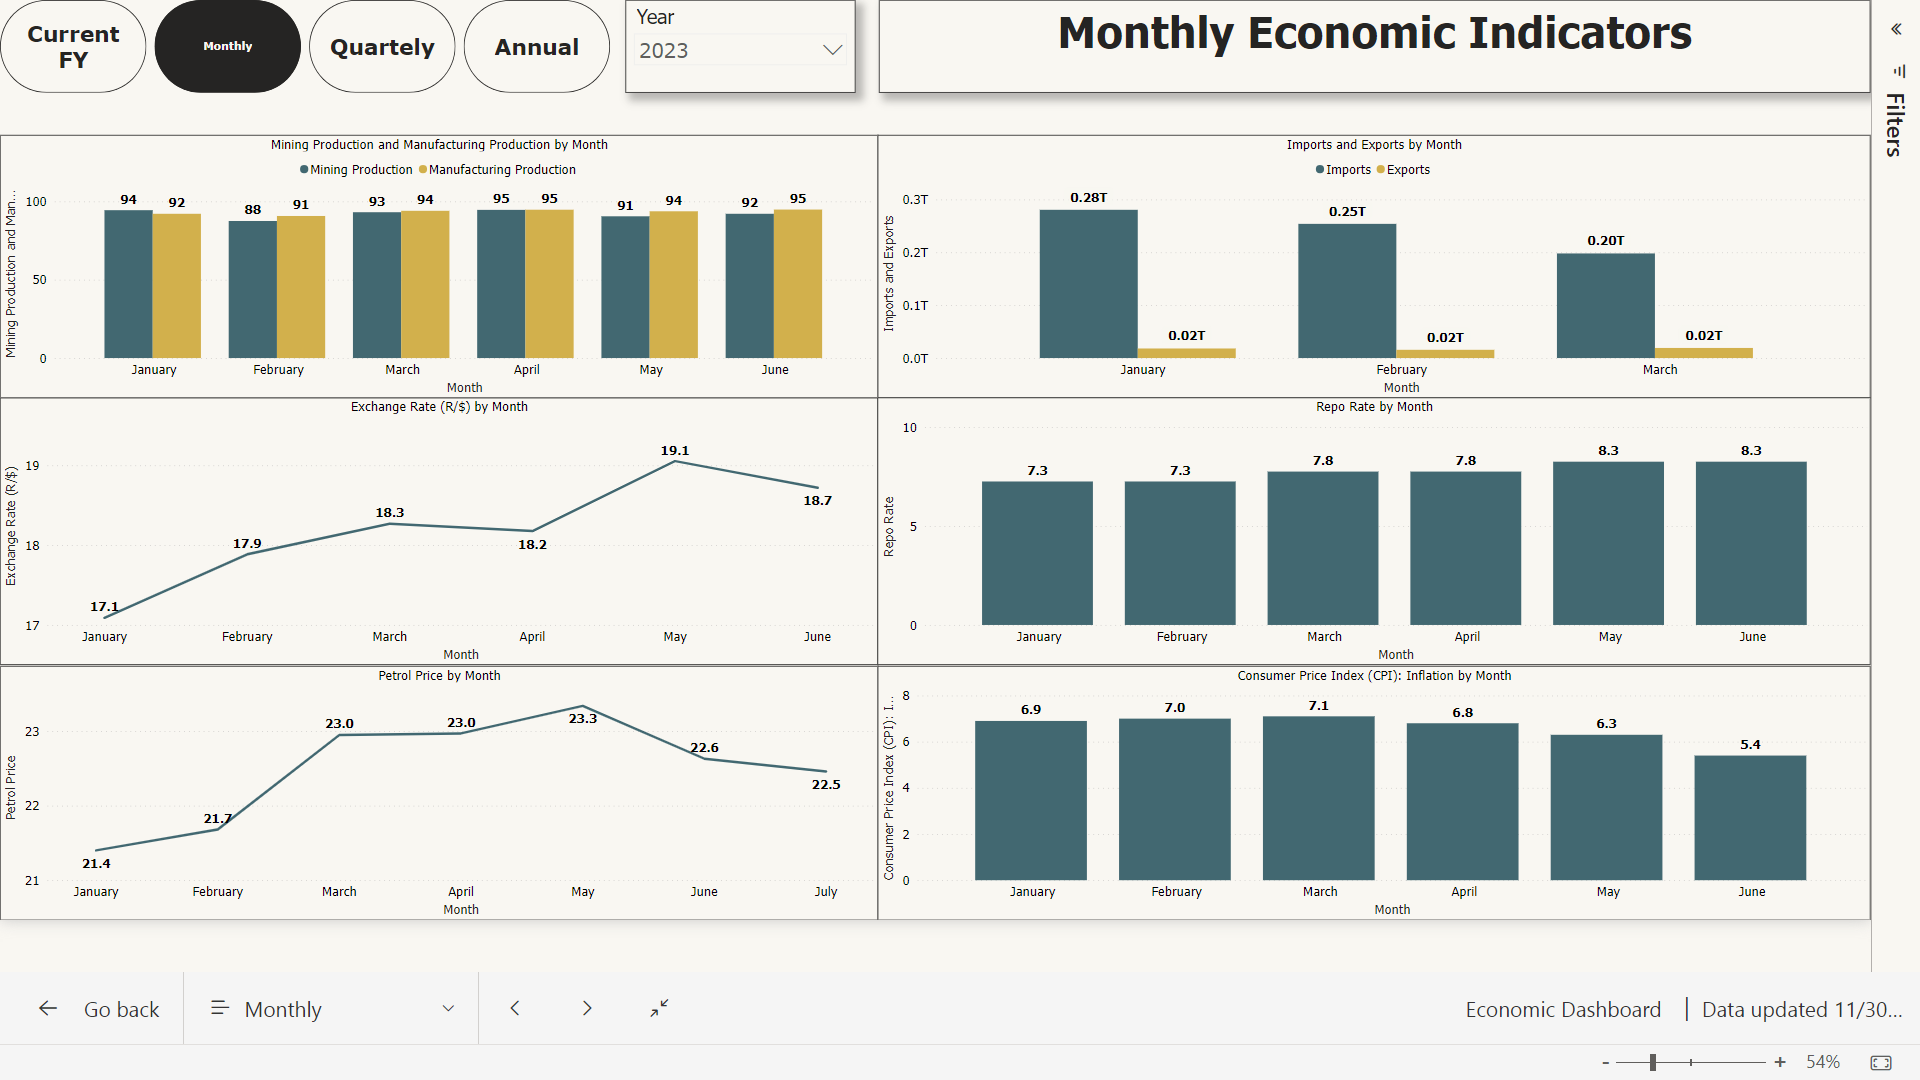

The dashboard page shown, as its layout file describes it:
{"tool":"powerbi","page":{"name":"Monthly","canvas":[2300,1131],"ordinal":1},"visuals":[{"type":"pageNavigator","box":[0,0,750.2,114.4],"z":0},{"type":"columnChart","fields":{"Y":["Sum(Monthly.Consumer Price Index (CPI): Inflation)"],"Category":["Monthly.Months.Variation.Date Hierarchy.Month"]},"box":[1079.3,818.3,1220.7,312.6],"z":1000},{"type":"slicer","fields":{"Values":["Monthly.Months.Variation.Date Hierarchy.Year"]},"box":[769.4,0,282.7,114.2],"z":2000},{"type":"lineChart","fields":{"Y":["Sum(Monthly.Exchange Rate (R/$))"],"Category":["Monthly.Months.Variation.Date Hierarchy.Month"]},"box":[0,489.4,1079.3,329],"z":3000},{"type":"lineClusteredColumnComboChart","fields":{"Category":["Monthly.Months.Variation.Date Hierarchy.Month"],"Y":["Sum(Monthly.Imports)","Sum(Monthly.Exports)"]},"box":[1079.3,165.8,1220.7,323.5],"z":4000},{"type":"columnChart","fields":{"Y":["Sum(Monthly.Repo Rate)"],"Category":["Monthly.Months.Variation.Date Hierarchy.Month"]},"box":[1079.3,489.4,1220.7,329],"z":5000},{"type":"clusteredColumnChart","fields":{"Category":["Monthly.Months.Variation.Date Hierarchy.Month"],"Y":["Sum(Monthly.Mining Production)","Sum(Monthly.Manufacturing Production)"]},"box":[0,165.8,1079.3,323.5],"z":6000},{"type":"textbox","box":[1080.2,0,1218.9,114.3],"z":8000},{"type":"lineChart","fields":{"Category":["Monthly.Months.Variation.Date Hierarchy.Month"],"Y":["Sum(Monthly.Petrol Price)"]},"box":[0,818.3,1079.3,312.6],"z":9000}]}

Visuals, with their boxes on the page's 2300x1131 design canvas (x1, y1, x2, y2). These are canvas units, not pixel positions in the 1920x1080 screenshot, which may show the page scaled, cropped or inside an application window:
pageNavigator: (x1=0, y1=0, x2=750, y2=114)
columnChart - Sum(Monthly.Consumer Price Index (CPI): Inflation) x Monthly.Months.Variation.Date Hierarchy.Month: (x1=1079, y1=818, x2=2300, y2=1131)
slicer - Monthly.Months.Variation.Date Hierarchy.Year: (x1=769, y1=0, x2=1052, y2=114)
lineChart - Sum(Monthly.Exchange Rate (R/$)) x Monthly.Months.Variation.Date Hierarchy.Month: (x1=0, y1=489, x2=1079, y2=818)
lineClusteredColumnComboChart - Monthly.Months.Variation.Date Hierarchy.Month x Sum(Monthly.Imports): (x1=1079, y1=166, x2=2300, y2=489)
columnChart - Sum(Monthly.Repo Rate) x Monthly.Months.Variation.Date Hierarchy.Month: (x1=1079, y1=489, x2=2300, y2=818)
clusteredColumnChart - Monthly.Months.Variation.Date Hierarchy.Month x Sum(Monthly.Mining Production): (x1=0, y1=166, x2=1079, y2=489)
textbox: (x1=1080, y1=0, x2=2299, y2=114)
lineChart - Monthly.Months.Variation.Date Hierarchy.Month x Sum(Monthly.Petrol Price): (x1=0, y1=818, x2=1079, y2=1131)
